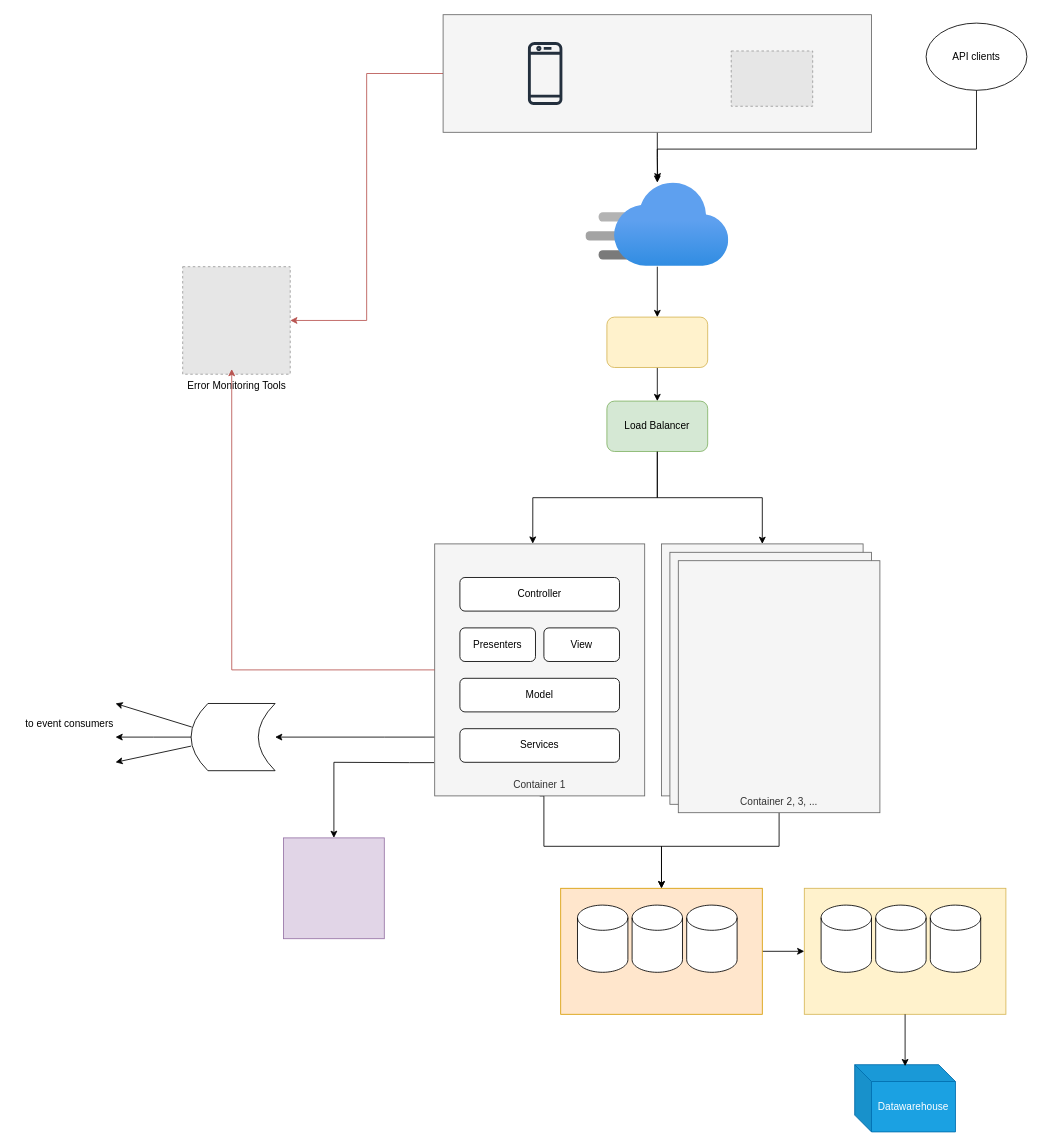
The diagram is 1042 pixels wide and 1147 high, and some of its shapes have lost their labels. Grey dashed boxes stand in for pictures. Each missing label, with the box of its shape:
Background Job Processor: (283, 837, 384, 939)
CDN networks: (585, 182, 728, 266)
Database clustering & sharding: (560, 887, 762, 1014)
Front-end framework: (442, 14, 872, 132)
Gateway/Firewall: (606, 316, 708, 368)
Kafka: (190, 703, 275, 771)
Read-only replicas: (803, 887, 1006, 1014)
